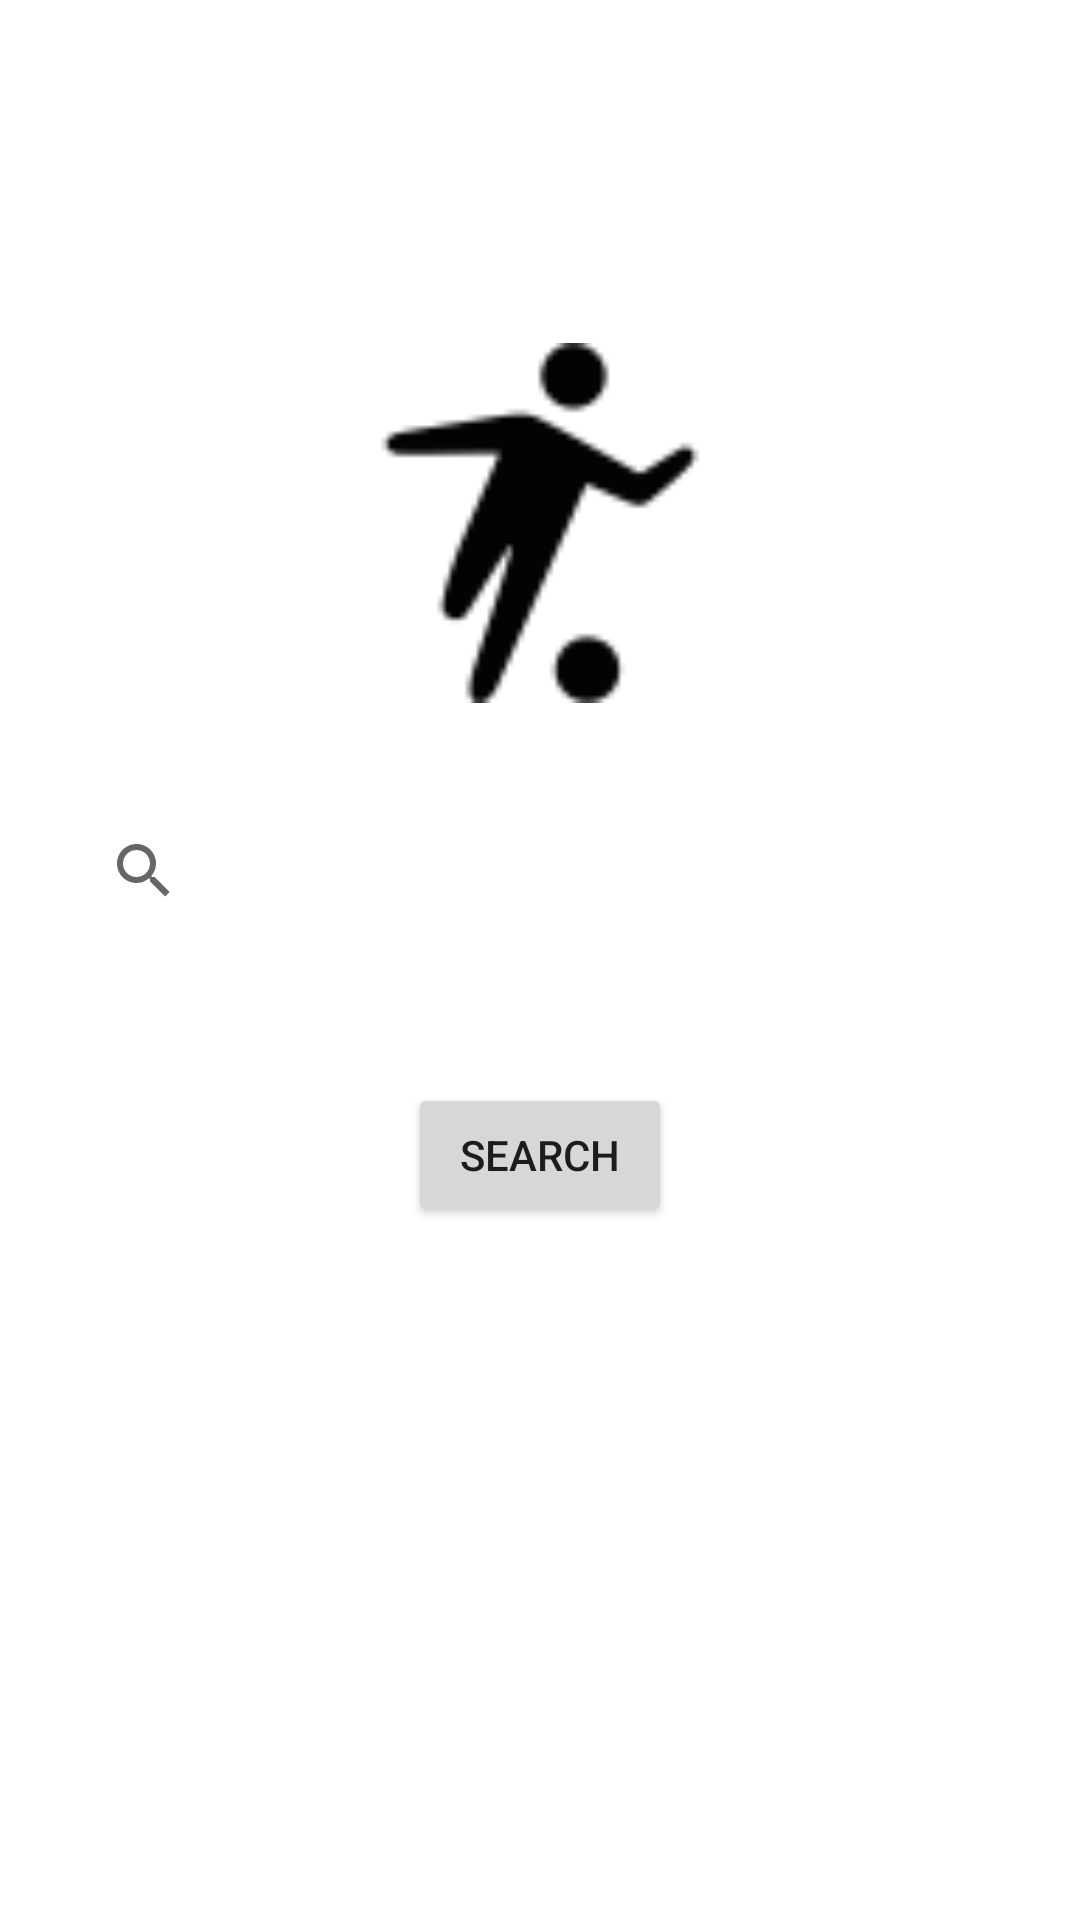

Named icons in this screenshot (1080×1920) and their centers, (x=x, y=y):
blackfootball: (x=540, y=523)
